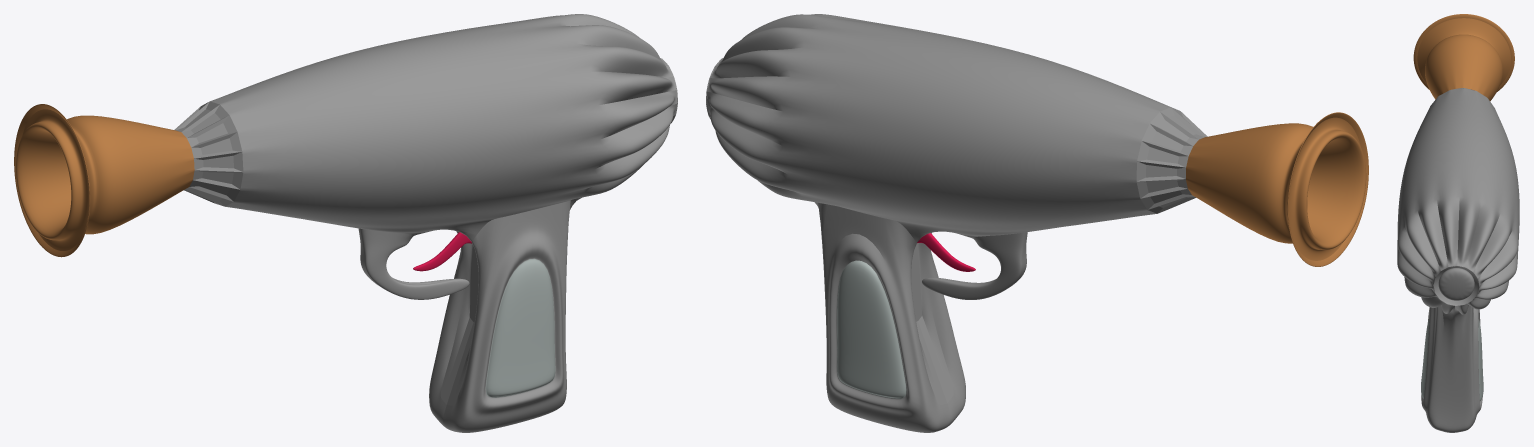
File: gun.FBX
The picture shows the model from 3 angles, left to right: view 1: azimuth 30°, elevation 25°; view 2: azimuth 150°, elevation 25°; view 3: azimuth 270°, elevation 25°; orthographic projection. The views are drawn at different scales.
Parts seen in each view (by area): view 1: Ray_Gun_II; view 2: Ray_Gun_II; view 3: Ray_Gun_II.
Part boxes in pixels (bbox=[...]): Ray_Gun_II: bbox=[14, 14, 677, 432]; Ray_Gun_II: bbox=[706, 14, 1368, 432]; Ray_Gun_II: bbox=[1397, 14, 1519, 432].
Bounding box in the file's own units: 134 × 85.08 × 35.14.
